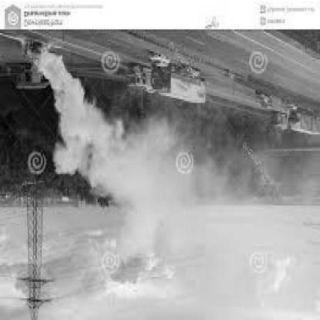Smoke: (31, 53, 114, 191), (112, 127, 180, 250)
